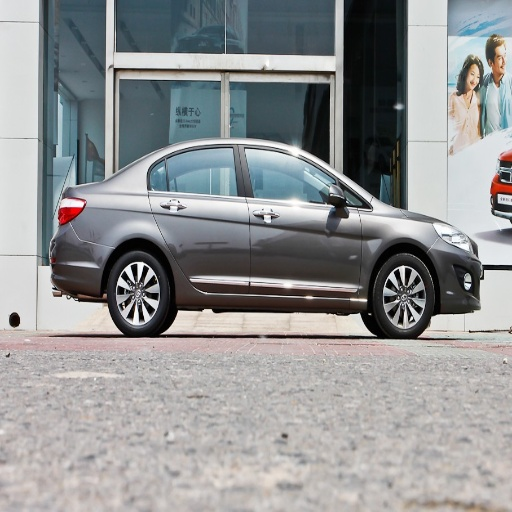back_right_door: (150, 145, 250, 294)
front_right_door: (242, 145, 362, 293)
